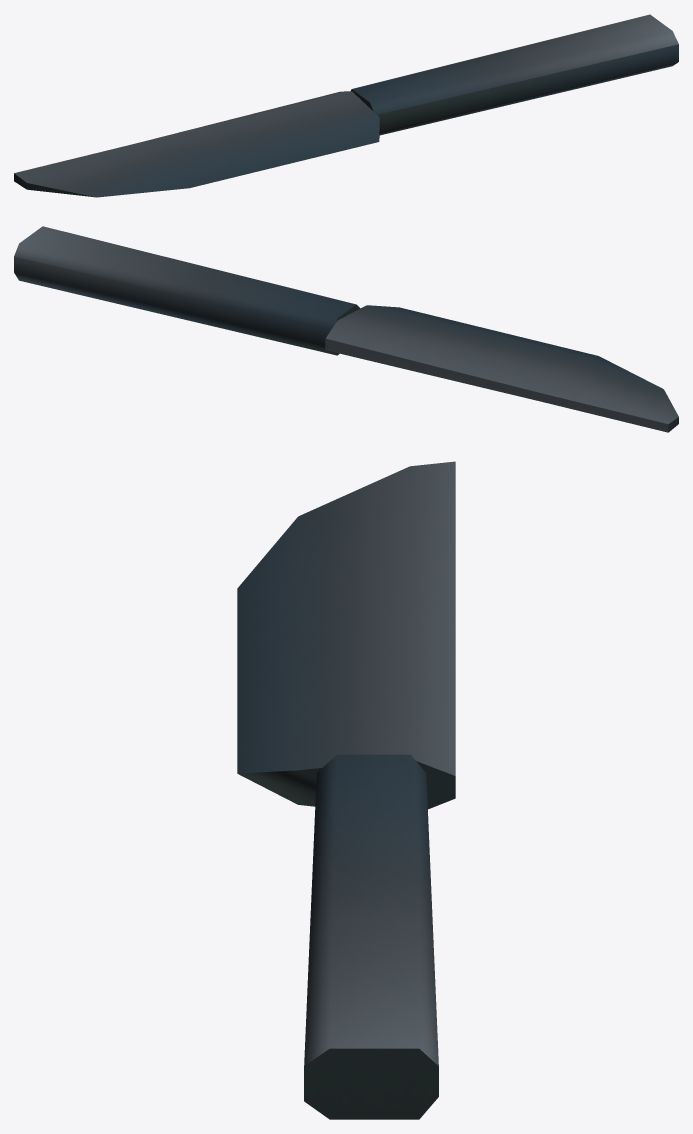
File: knife_cuttlery_metal.fbx
The picture shows the model from 3 angles, top to bottom: view 1: azimuth 30°, elevation 25°; view 2: azimuth 150°, elevation 25°; view 3: azimuth 270°, elevation 25°; orthographic projection. The views are drawn at different scales.
Visible parts, largest first — view 1: knife_cuttlery_metal; view 2: knife_cuttlery_metal; view 3: knife_cuttlery_metal.
Boxes of the visible parts, x1=… form: knife_cuttlery_metal: x1=14, y1=14, x2=678, y2=197; knife_cuttlery_metal: x1=14, y1=226, x2=678, y2=432; knife_cuttlery_metal: x1=237, y1=461, x2=455, y2=1119.
Size of the model in its own units: 43.25 by 2.35 by 6.53.
